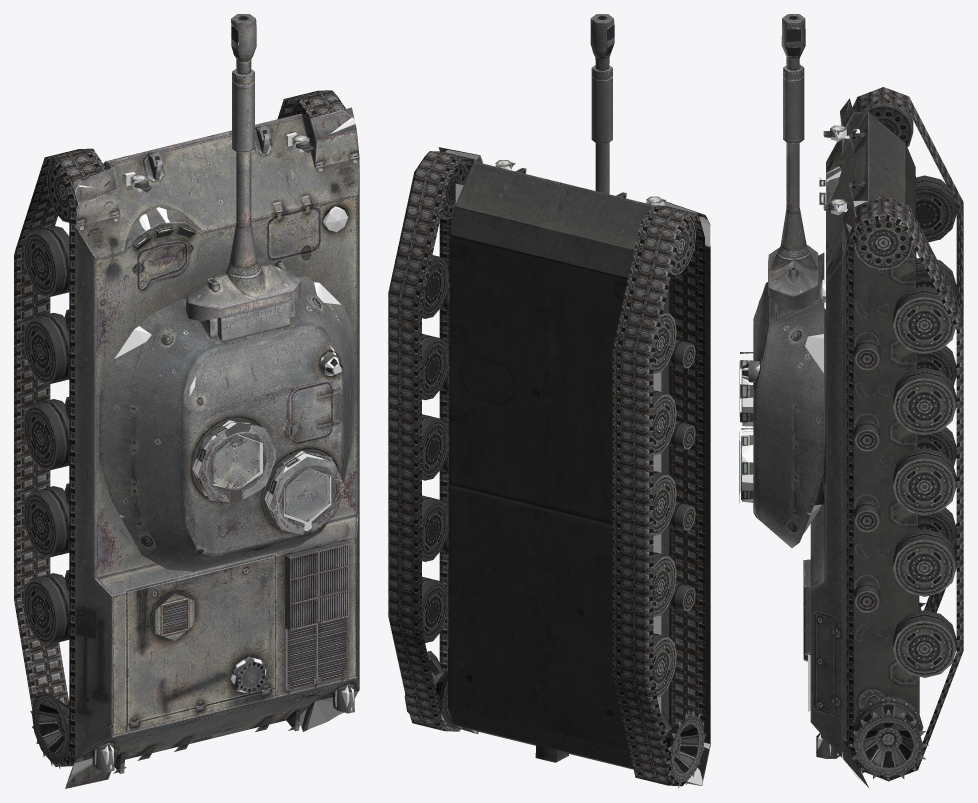
3 views of the same model, side by side, from view 1: azimuth 30°, elevation 25°; view 2: azimuth 150°, elevation 25°; view 3: azimuth 270°, elevation 25° (orthographic). The views are drawn at different scales.
Parts seen in each view (by area): view 1: hull, turret_01, chassis_track_L, gun_01, chassis_wheel_L_02, chassis_wheel_L_05, chassis_wheel_L_06, chassis_wheel_L_03, chassis_wheel_L_04, hull_hide_elements, chassis_wheel_L_07, turret_01_hide_elements (+2 smaller); view 2: hull, chassis_track_L, chassis_track_R, gun_01, chassis_wheel_L_07, hull_hide_elements, chassis_wheel_R_05, chassis_wheel_R_03, chassis_wheel_R_04, chassis_wheel_R_06, chassis_wheel_L_05, chassis_wheel_L_03 (+11 smaller); view 3: hull, turret_01, chassis_track_R, gun_01, chassis_wheel_R_07, chassis_wheel_R_05, chassis_wheel_R_06, chassis_wheel_R_03, chassis_wheel_R_04, chassis_wheel_R_02, chassis_track_L, chassis_wheel_R_01 (+12 smaller).
Part boxes in pixels (<box>): hull: <box>65,107,359,788</box>; turret_01: <box>99,277,355,571</box>; chassis_track_L: <box>14,148,106,766</box>; gun_01: <box>185,14,300,321</box>; chassis_wheel_L_02: <box>23,225,69,297</box>; chassis_wheel_L_05: <box>23,486,69,557</box>; chassis_wheel_L_06: <box>23,573,69,644</box>; chassis_wheel_L_03: <box>23,313,69,384</box>; chassis_wheel_L_04: <box>23,399,69,470</box>; hull_hide_elements: <box>67,110,358,783</box>; chassis_wheel_L_07: <box>30,685,73,768</box>; turret_01_hide_elements: <box>114,282,348,530</box>; hull: <box>438,147,710,785</box>; chassis_track_L: <box>612,205,704,786</box>; chassis_track_R: <box>388,151,474,731</box>; gun_01: <box>590,14,614,194</box>; chassis_wheel_L_07: <box>661,709,706,787</box>; hull_hide_elements: <box>445,149,710,785</box>; chassis_wheel_R_05: <box>422,495,448,561</box>; chassis_wheel_R_03: <box>422,333,449,400</box>; chassis_wheel_R_04: <box>422,414,448,480</box>; chassis_wheel_R_06: <box>422,576,448,642</box>; chassis_wheel_L_05: <box>653,552,676,617</box>; chassis_wheel_L_03: <box>653,390,676,455</box>; hull: <box>803,98,919,787</box>; turret_01: <box>739,253,825,547</box>; chassis_track_R: <box>846,195,963,780</box>; gun_01: <box>768,14,819,310</box>; chassis_wheel_R_07: <box>848,696,928,781</box>; chassis_wheel_R_05: <box>893,529,956,596</box>; chassis_wheel_R_06: <box>893,610,956,677</box>; chassis_wheel_R_03: <box>893,367,956,435</box>; chassis_wheel_R_04: <box>893,448,956,515</box>; chassis_wheel_R_02: <box>893,286,955,353</box>; chassis_track_L: <box>852,87,963,612</box>; chassis_wheel_R_01: <box>854,220,912,269</box>.
Bounding box in the file's own units: 3 × 7.69 × 2.19.
3 materials, 2 textured.
